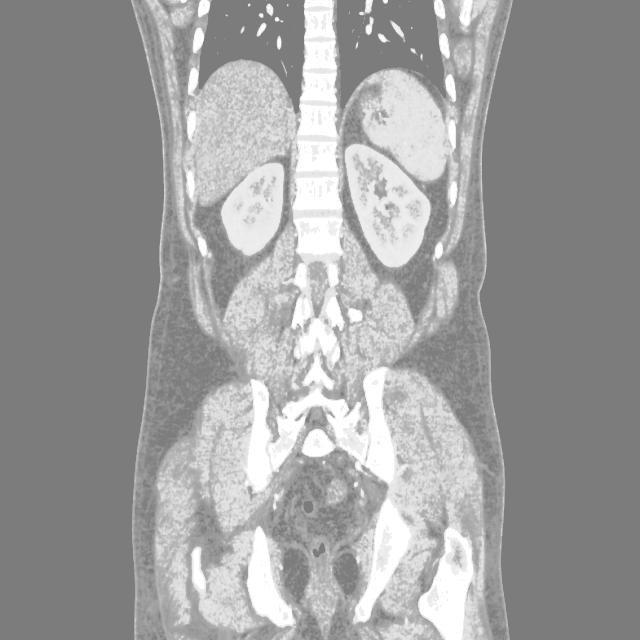NORMAL: (124, 65, 526, 491)
